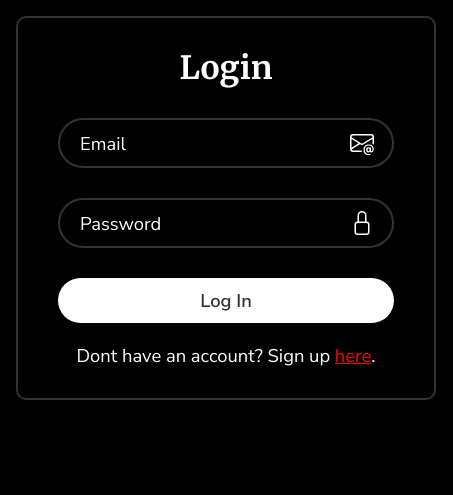
Test: login › errors › shows error when server error occurs
The image size is (453, 495).
Step 1. Type "test@gmail.com" into the field with placeholder "Email" → (226, 143), box [58,118,394,168]
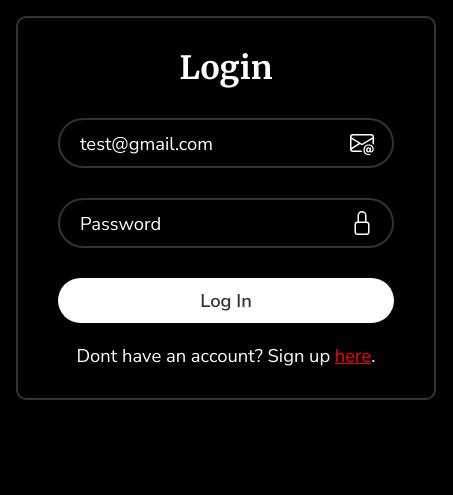
Step 2. Type "testpassword" into the password field with placeholder "Password" → (226, 223), box [58,198,394,248]
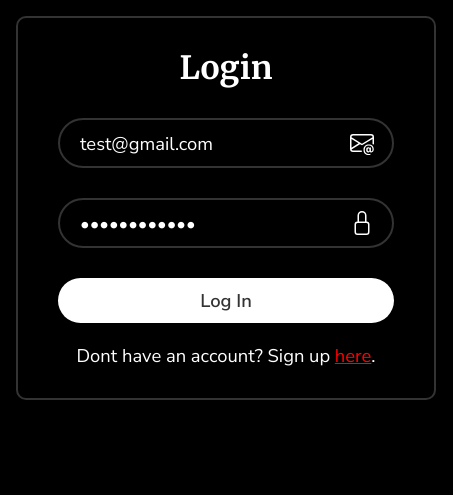
Step 3. Click the button with test id "log-in-button" → click(226, 300), box [58,278,394,323]
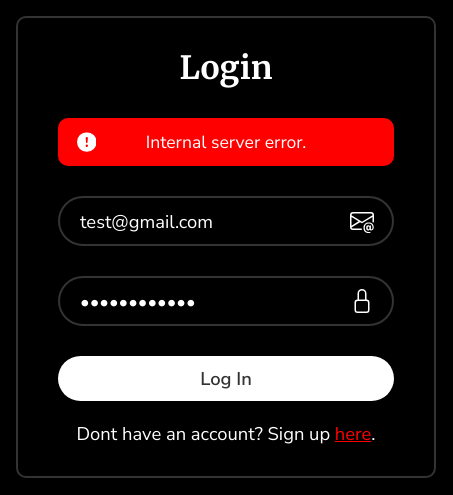
Now the text "Internal server error." is shown, box [58,118,394,166]
